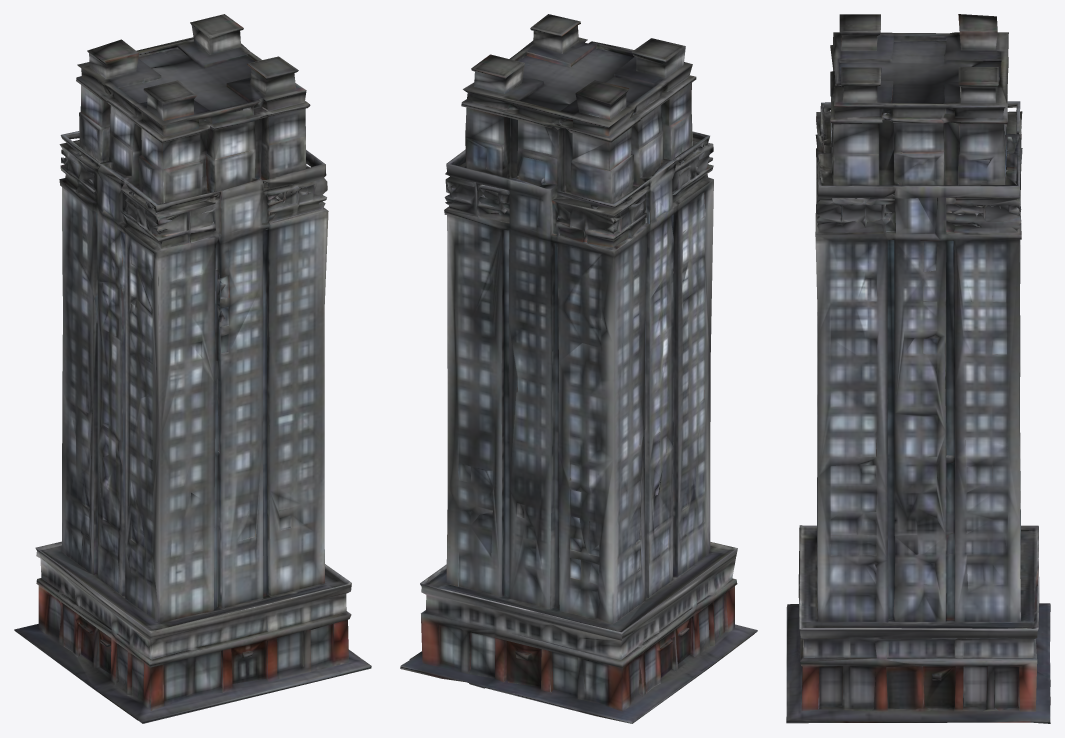
The model's file is bld_office.glb.
The picture shows the model from 3 angles, left to right: view 1: azimuth 30°, elevation 25°; view 2: azimuth 150°, elevation 25°; view 3: azimuth 270°, elevation 25°; orthographic projection. The views are drawn at different scales.
Parts seen in each view (by area): view 1: bld_office; view 2: bld_office; view 3: bld_office.
Boxes of the visible parts, left/top/right/bottom form: bld_office: left=14, top=14, right=371, bottom=723; bld_office: left=400, top=14, right=757, bottom=723; bld_office: left=786, top=14, right=1050, bottom=723.
Bounding box in the file's own units: 0.753 × 1.85 × 0.7145.
1 material, 1 textured.
